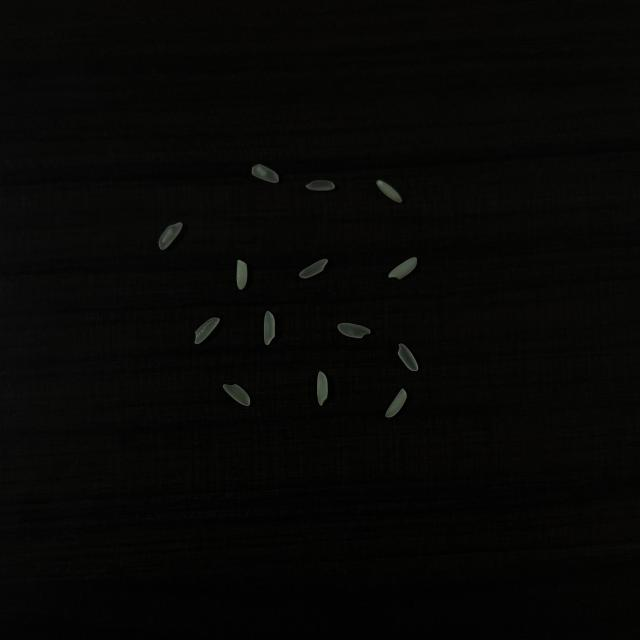Broken: (252, 164, 279, 183)
Full: (191, 318, 220, 344), (159, 222, 183, 250), (388, 257, 417, 280), (385, 388, 407, 418), (299, 258, 328, 279), (376, 180, 402, 203), (223, 384, 250, 406), (398, 343, 418, 372), (338, 322, 370, 338), (261, 310, 275, 346), (317, 371, 328, 406), (305, 180, 335, 191), (237, 260, 247, 290)
